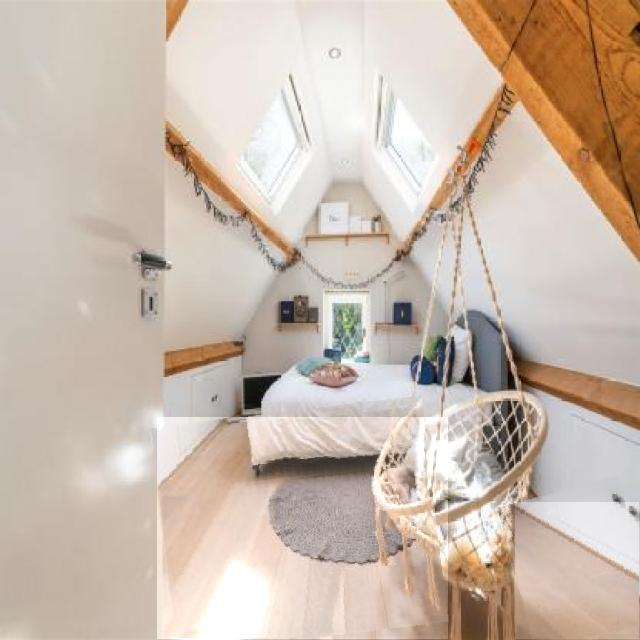floor: (158, 417, 448, 639), (516, 502, 640, 640)
